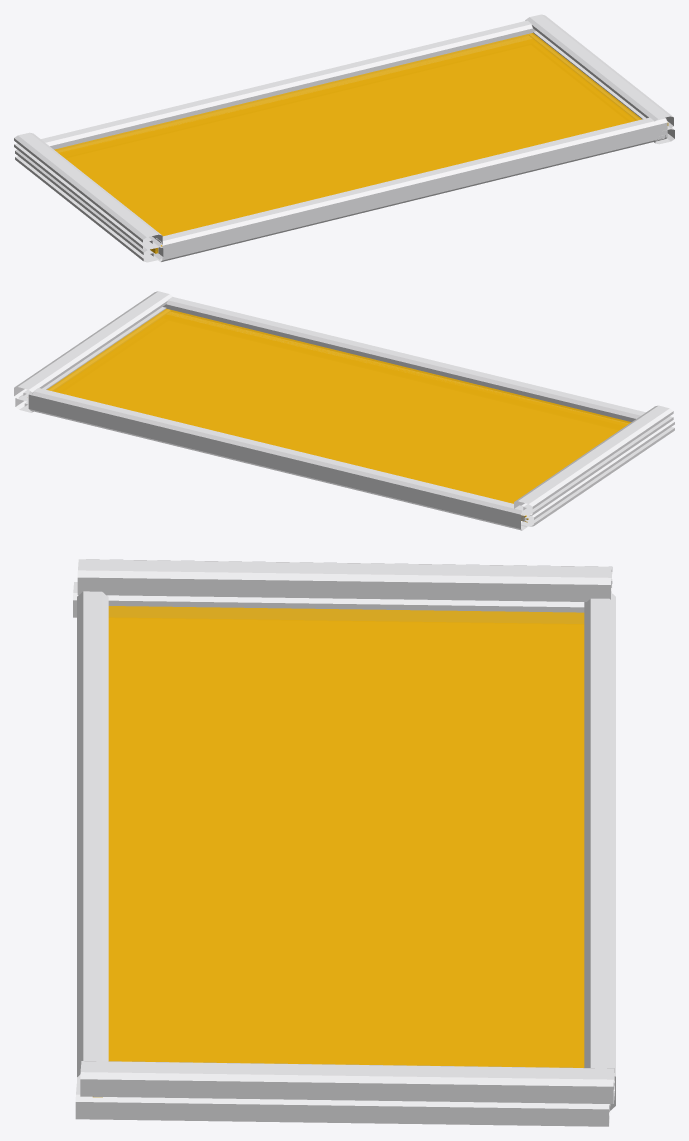
File: plane scifi.fbx
The picture shows the model from 3 angles, top to bottom: view 1: azimuth 30°, elevation 25°; view 2: azimuth 150°, elevation 25°; view 3: azimuth 270°, elevation 25°; orthographic projection. The views are drawn at different scales.
Parts seen in each view (by area): view 1: group_1, group_8, group_7, group_7.001, group_7.003, group_7.002, group_7.004; view 2: group_1, group_7, group_8, group_7.001, group_7.003, group_7.002, group_7.004; view 3: group_1, group_7.003, group_7.001, group_7, group_8, group_7.004, group_7.002.
Boxes of the visible parts, x1,y1,x2,y2 form: group_1: (54,33,668,253); group_8: (155,117,667,262); group_7: (41,20,535,151); group_7.001: (14,132,162,249); group_7.003: (525,14,673,128); group_7.002: (15,149,163,262); group_7.004: (529,34,674,144); group_1: (47,308,631,522); group_7: (28,388,527,530); group_8: (163,297,645,421); group_7.001: (514,405,673,516); group_7.003: (14,291,172,401); group_7.002: (521,420,674,526); group_7.004: (15,310,169,412); group_1: (93,606,584,1097); group_7.003: (80,1061,614,1103); group_7.001: (77,559,612,601); group_7: (584,592,615,1110); group_8: (77,591,108,1083); group_7.004: (75,1083,610,1126); group_7.002: (73,582,584,623).
Size of the model in its own units: 192 by 10.7 by 85.63.
